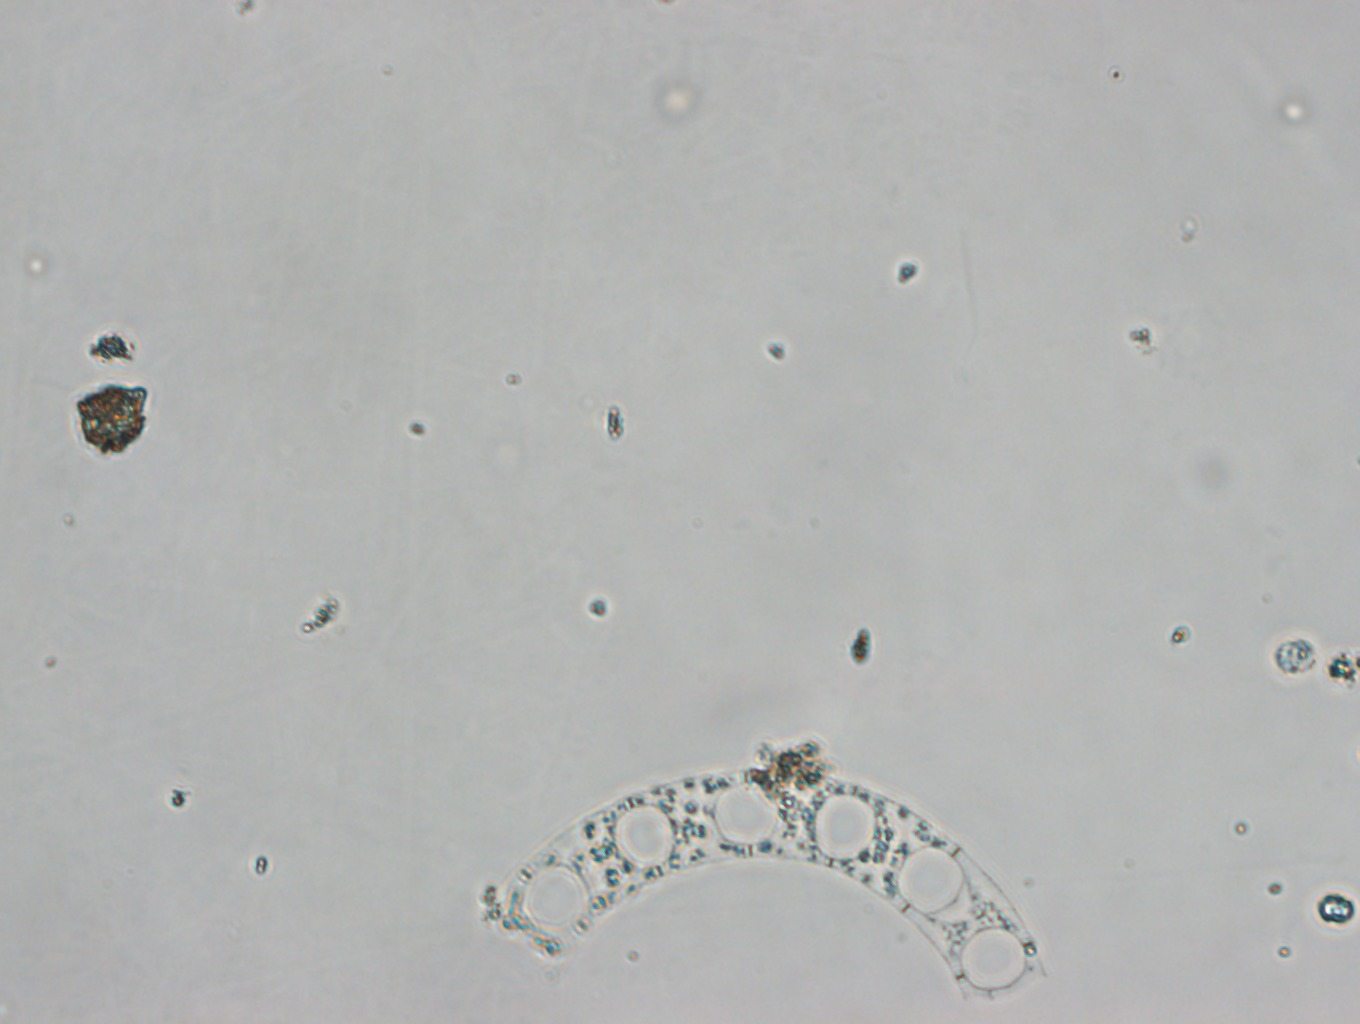eucampia: (485, 771, 1059, 1002)
